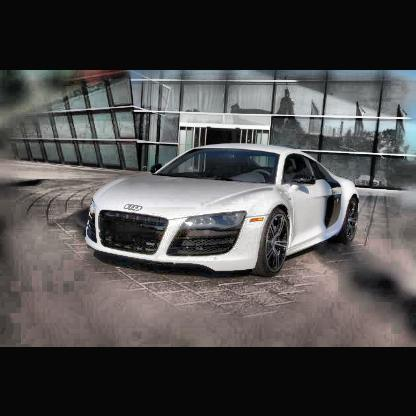Audi R8 Coupe 2012: (85, 143, 361, 281)
